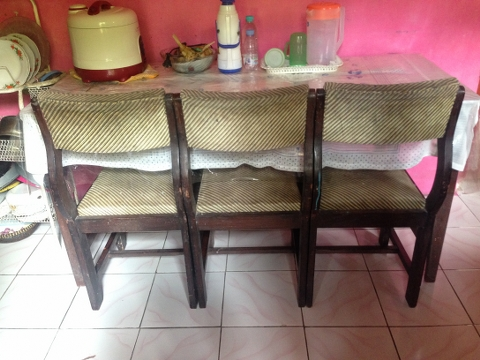kursi: (30, 89, 198, 310), (309, 77, 465, 307), (172, 81, 314, 308)
tempat minum: (284, 32, 307, 66), (242, 30, 259, 70)
